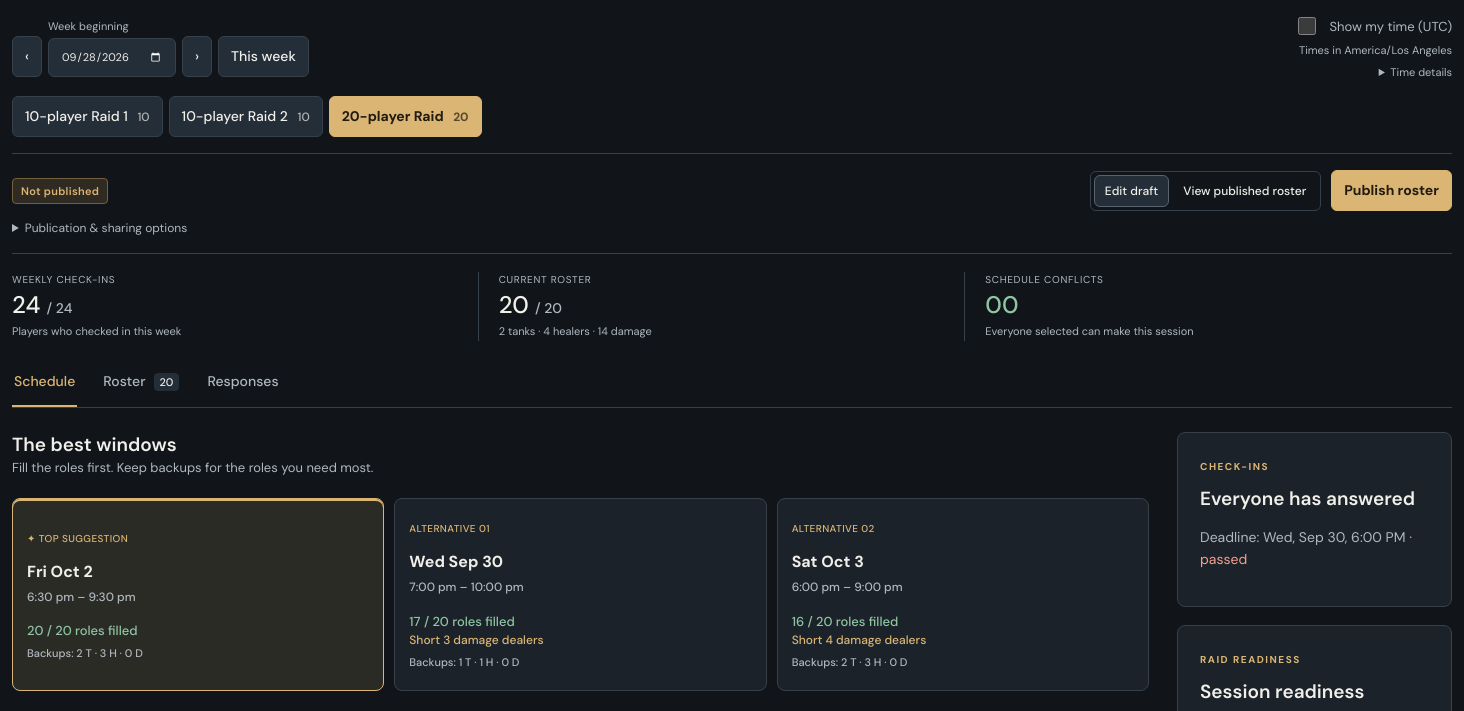
Test case: Planner check-ins and weeks › the bench is grouped by whether players can come
What coordinates should you click on to do the following:
click the tab "Roster20"
I would click on:
 (141, 383)
Its box is top-left (101, 359), bottom-right (181, 407).
(page scrolled)
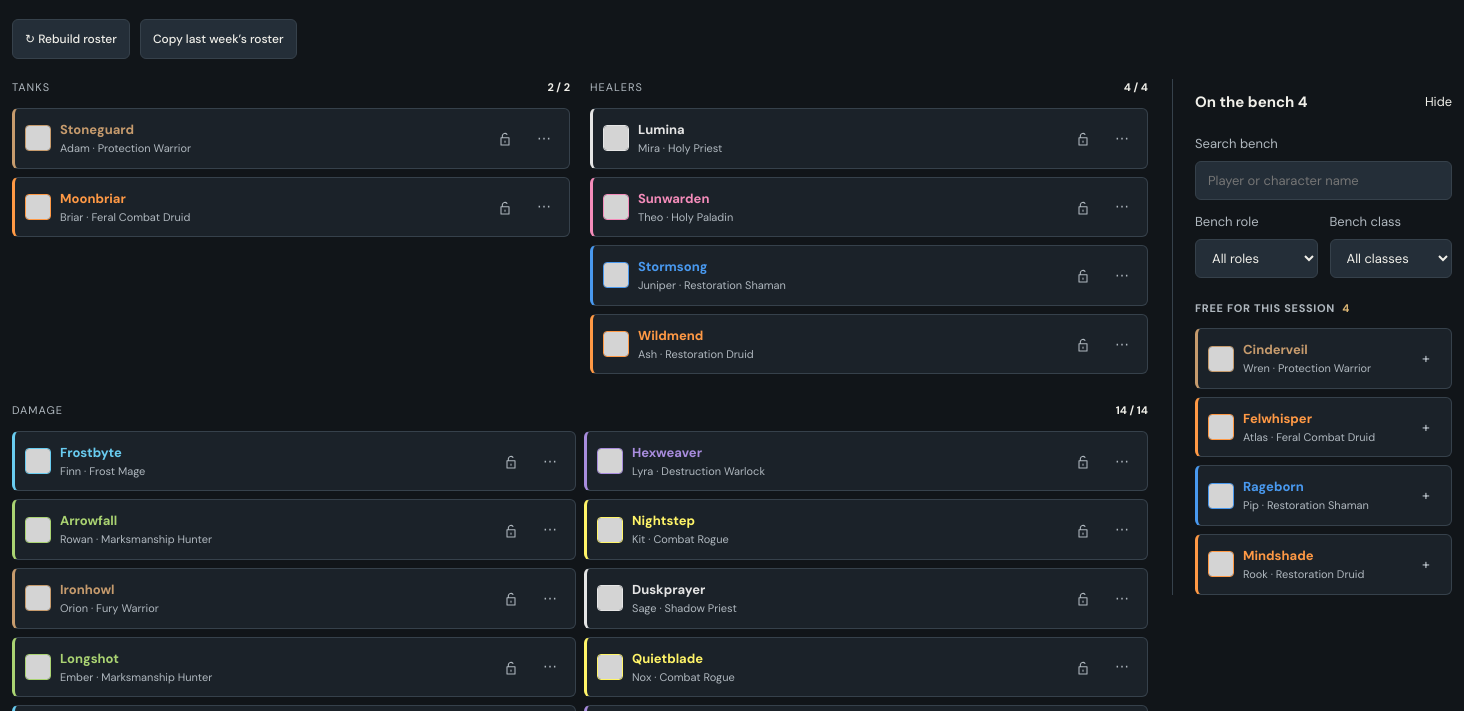
Expected: the heading "Free for this session 4" is shown, top-left (1195, 301), bottom-right (1350, 315)
